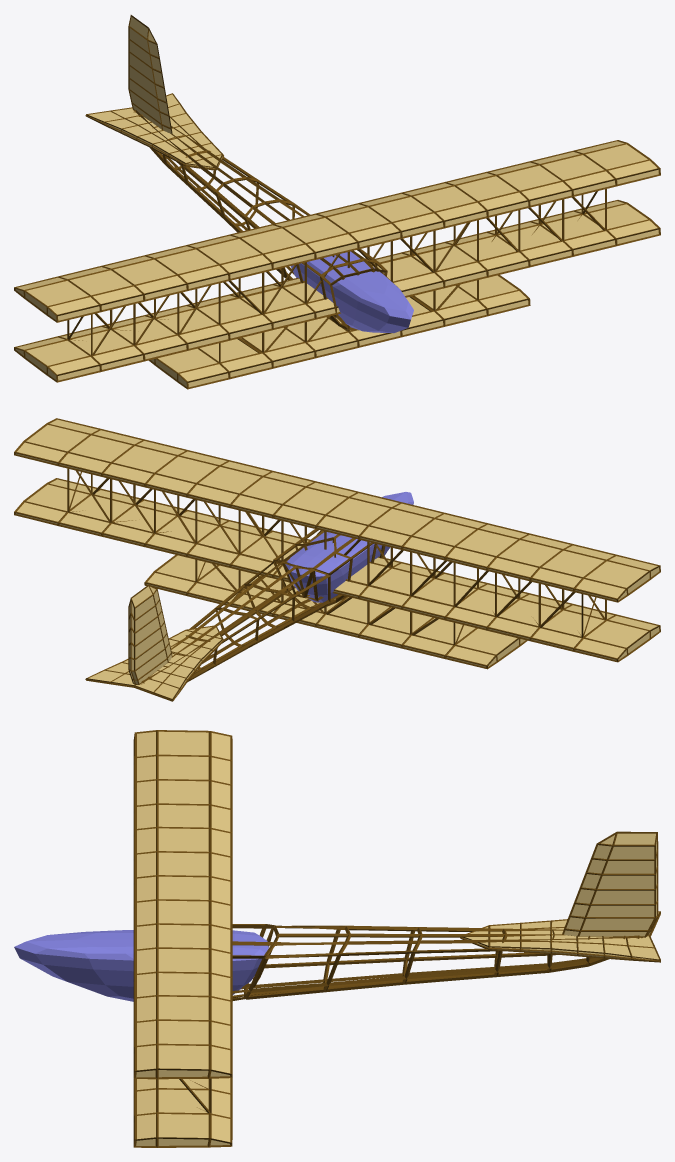
Rendered from paper_triplane.fbx.
3 views of the same model, one above another, from view 1: azimuth 30°, elevation 25°; view 2: azimuth 150°, elevation 25°; view 3: azimuth 270°, elevation 25° (orthographic). The views are drawn at different scales.
Parts seen in each view (by area): view 1: Cube.017; view 2: Cube.017; view 3: Cube.017.
Part boxes in pixels (x1,y1,x2,y2): Cube.017: (14,15,660,389); Cube.017: (14,418,660,701); Cube.017: (14,730,660,1147).
Size of the model in its own units: 1135 by 370 by 1406.
